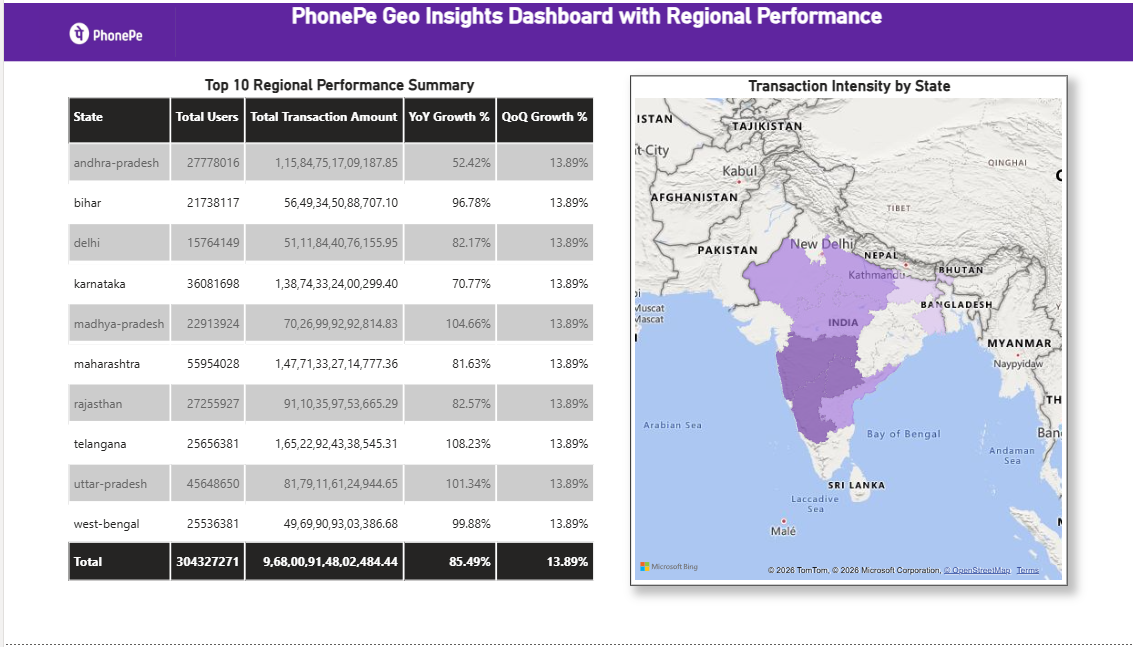

Layout of this report page (visuals, bound fields, positions):
{"tool":"powerbi","page":{"name":"Geo Performance","canvas":[1280,720],"ordinal":2},"visuals":[{"type":"filledMap","title":" Transaction Intensity by State","fields":{"Category":["District_summary.State"]},"box":[688,96,480,560],"z":0},{"type":"tableEx","title":"Top 10 Regional Performance Summary","fields":{"Values":["District_summary.State","District_summary.Total Users","District_summary.Total Transaction Amount","District_summary.YoY Growth %","District_summary.QoQ Growth %"]},"box":[64,96,608,592],"z":1000},{"type":"textbox","title":"PhonePe Geo Insights Dashboard  with  Regional Performance","box":[0,16,1280,64],"z":2000},{"type":"image","box":[0,16,224,64],"z":3000}]}

Visuals, with their boxes in screenshot pixels (x1, y1, x2, y2), scaled from the page's 1280x720 canvas onto the 1133x647 screenshot:
" Transaction Intensity by State" filledMap: 609 86 1034 589
"Top 10 Regional Performance Summary" tableEx: 57 86 595 618
"PhonePe Geo Insights Dashboard  with  Regional Performance" textbox: 0 14 1132 72
image: 0 14 198 72
